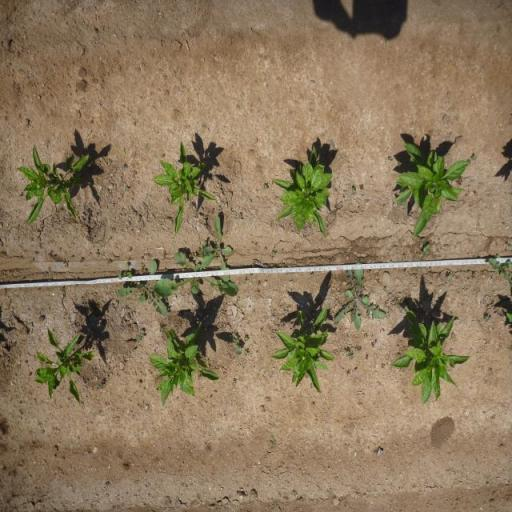plant: (390, 308, 472, 406), (393, 145, 470, 240), (16, 144, 94, 228), (148, 322, 222, 407), (272, 143, 334, 241), (269, 302, 333, 396), (154, 140, 214, 238), (33, 326, 95, 408)
weed: (332, 260, 388, 334), (151, 252, 241, 298), (116, 259, 169, 323), (204, 216, 236, 280), (485, 257, 512, 281), (116, 262, 134, 280), (188, 246, 202, 260), (136, 328, 145, 343), (46, 249, 58, 260), (234, 344, 245, 355), (139, 261, 147, 276), (422, 244, 430, 258), (344, 350, 354, 360), (354, 343, 363, 354), (232, 335, 242, 344), (47, 266, 56, 276), (394, 298, 404, 306), (446, 274, 453, 284), (344, 368, 351, 378), (470, 153, 478, 161), (455, 178, 463, 186), (262, 183, 270, 191), (419, 238, 426, 247), (63, 259, 70, 268), (60, 286, 66, 296), (351, 186, 356, 196), (386, 156, 394, 162), (231, 380, 237, 388), (244, 350, 250, 358), (380, 362, 386, 370), (484, 316, 491, 322), (106, 258, 113, 264), (124, 186, 130, 193), (272, 247, 277, 255), (128, 246, 133, 254), (121, 163, 126, 171), (358, 184, 364, 190), (244, 336, 250, 342), (280, 262, 286, 268), (96, 249, 100, 258), (79, 256, 85, 262), (416, 266, 422, 271), (364, 333, 368, 340), (404, 268, 407, 275)
